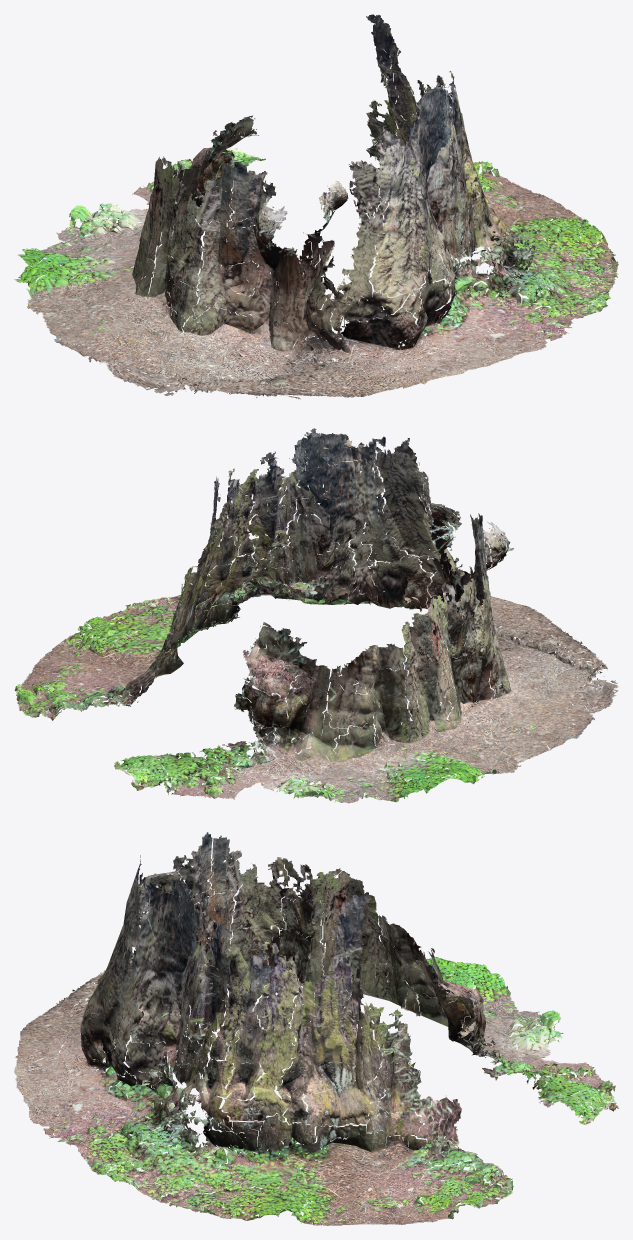
Rendered from wideTree.glb.
3 views of the same model, one above another, from view 1: azimuth 30°, elevation 25°; view 2: azimuth 150°, elevation 25°; view 3: azimuth 270°, elevation 25° (orthographic). The views are drawn at different scales.
Parts seen in each view (by area): view 1: Baked; view 2: Baked; view 3: Baked.
Part boxes in pixels (bbox=[...]): Baked: bbox=[14, 14, 618, 399]; Baked: bbox=[14, 428, 618, 803]; Baked: bbox=[14, 832, 618, 1225].
Size of the model in its own units: 9.34 by 3.93 by 8.88.
1 material, 1 textured.
